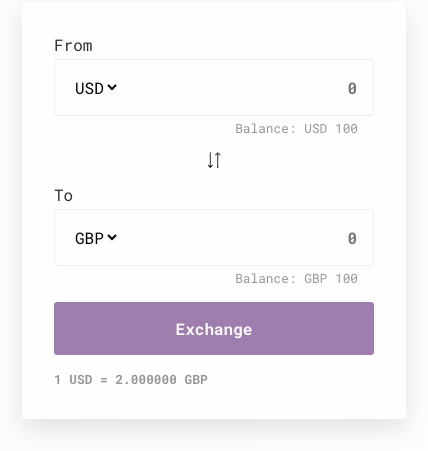
Test: Exchange component › should reverse amounts
The width and height of the screenshot is (428, 451).
Click the button with class "revert".
click(214, 160)  # box top-left (206, 152), bottom-right (222, 168)
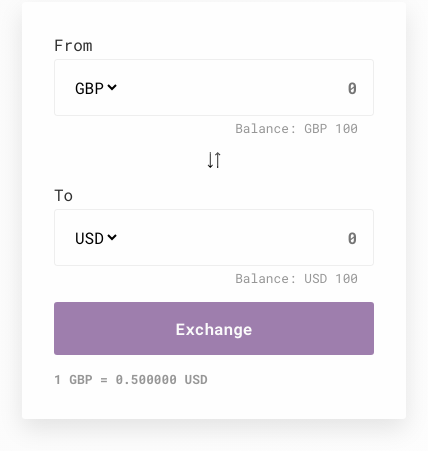
Expected: the text with class "balance" shows "GBP", top-left (235, 120), bottom-right (358, 136)
Expected: the text with class "balance" shows "USD", top-left (235, 270), bottom-right (358, 286)
